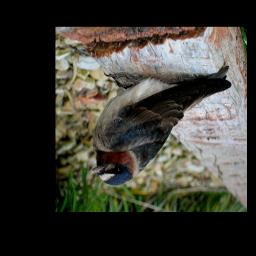Swallow: (87, 63, 234, 189)
